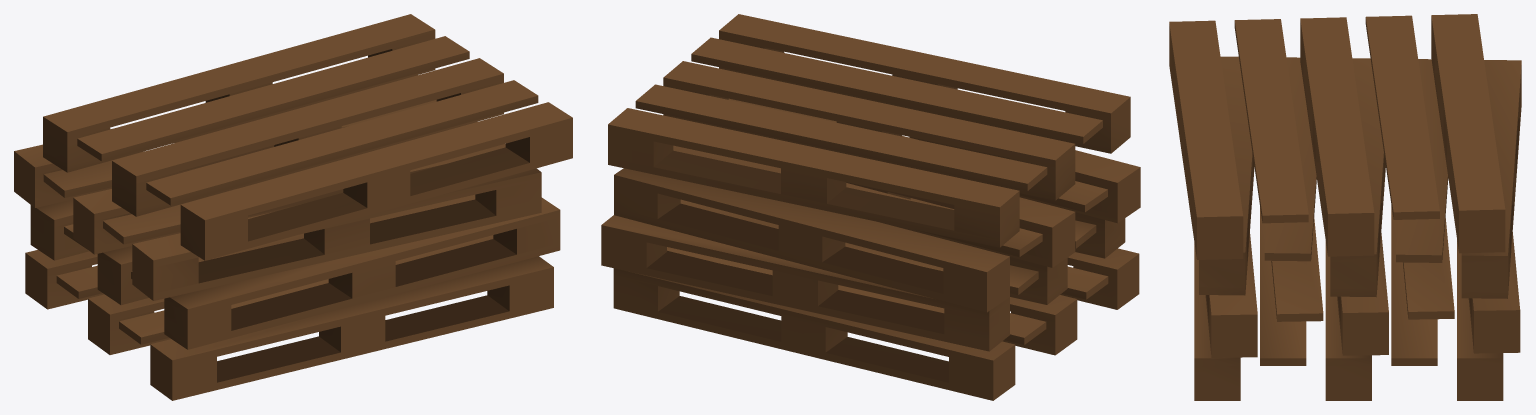
The model's file is pallet_stack.glb.
3 views of the same model, side by side, from view 1: azimuth 30°, elevation 25°; view 2: azimuth 150°, elevation 25°; view 3: azimuth 270°, elevation 25° (orthographic). The views are drawn at different scales.
Parts seen in each view (by area): view 1: PalletStack; view 2: PalletStack; view 3: PalletStack.
Boxes of the visible parts, left/top/right/bottom form: PalletStack: left=14, top=14, right=572, bottom=400; PalletStack: left=601, top=14, right=1140, bottom=400; PalletStack: left=1169, top=14, right=1521, bottom=400.
Bounding box in the file's own units: 1.29 × 0.554 × 0.9131.
